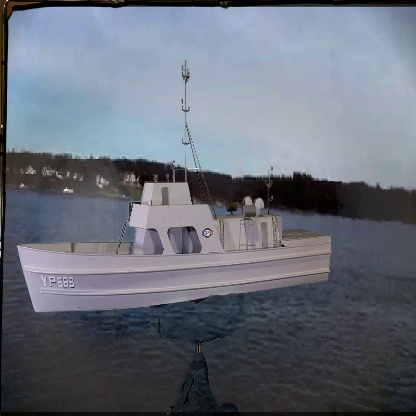YP689: (13, 51, 334, 316)
